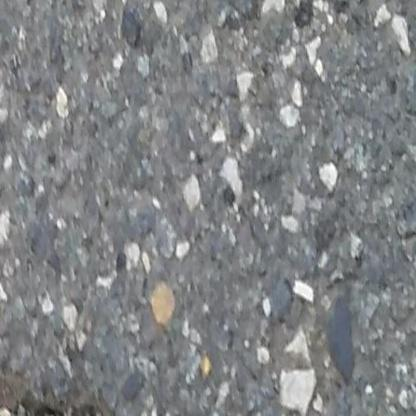Cracks: (0, 385, 115, 416)
